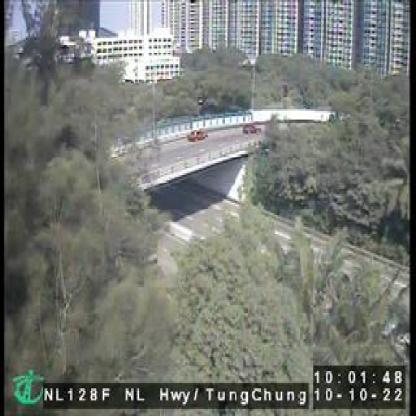Car: (188, 122, 209, 143), (245, 124, 261, 134)
